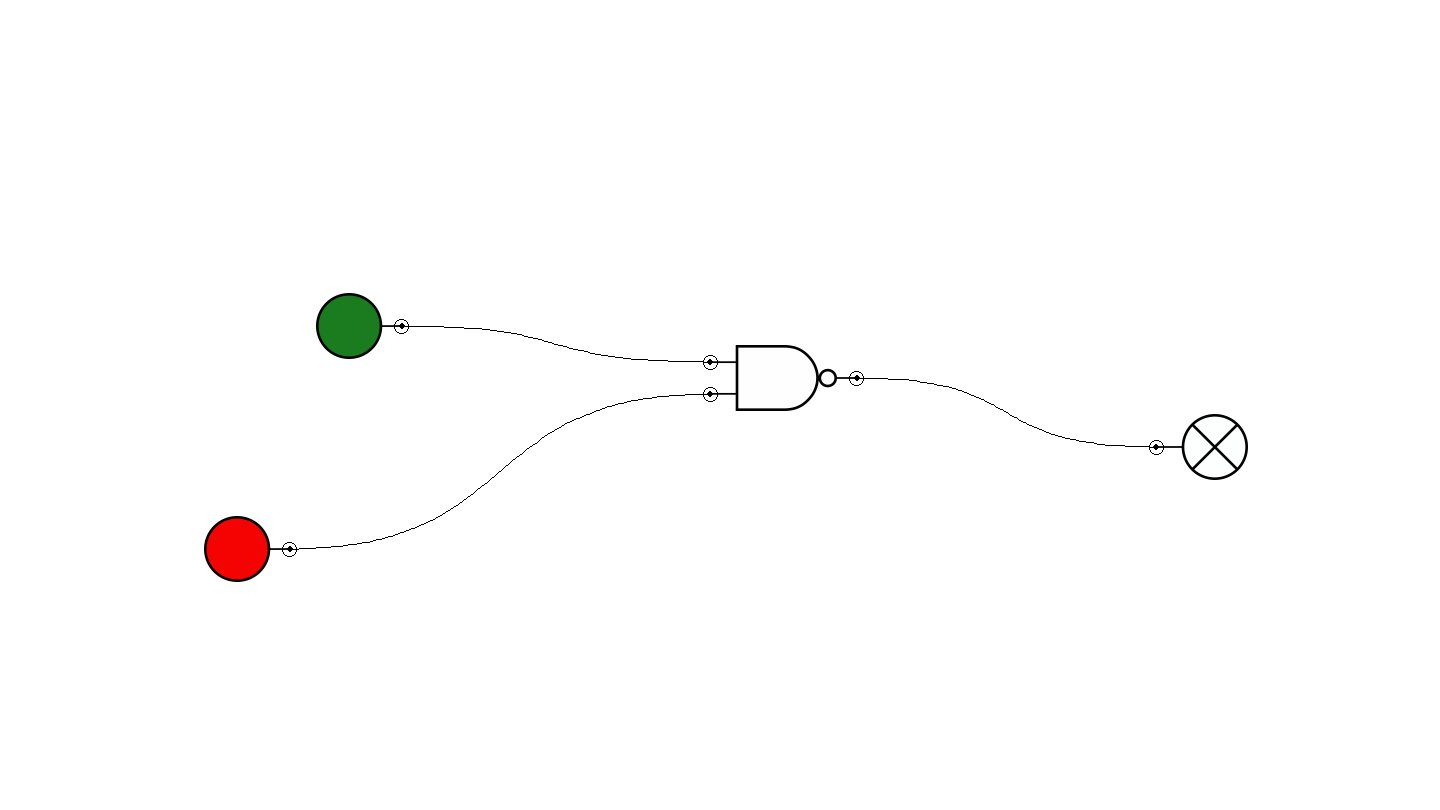bulb: (1149, 414, 1248, 480)
nand: (703, 345, 864, 411)
switch_False: (204, 516, 297, 582)
switch_True: (316, 293, 409, 359)
